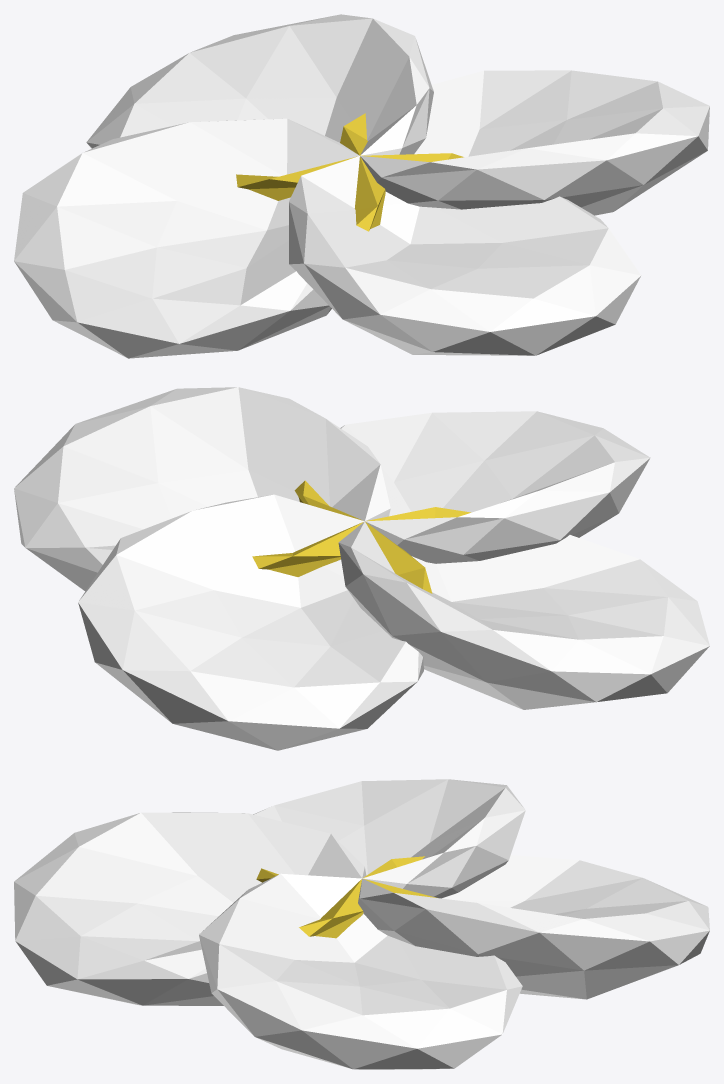
File: flower2.fbx
3 views of the same model, one above another, from view 1: azimuth 30°, elevation 25°; view 2: azimuth 150°, elevation 25°; view 3: azimuth 270°, elevation 25° (orthographic). The views are drawn at different scales.
Parts seen in each view (by area): view 1: flower2; view 2: flower2; view 3: flower2.
Part boxes in pixels (bbox=[...]): flower2: bbox=[14, 14, 709, 358]; flower2: bbox=[14, 387, 709, 750]; flower2: bbox=[14, 779, 709, 1069].
Bounding box in the file's own units: 50.21 × 11.88 × 50.34.
